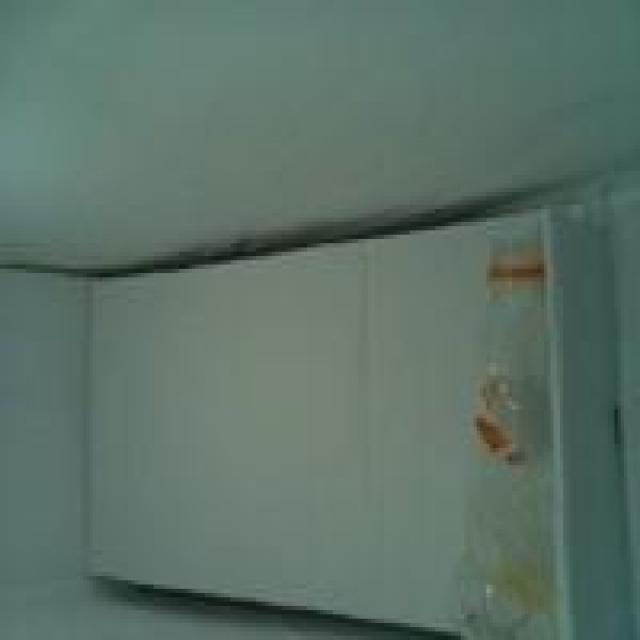bottle: (448, 227, 583, 630)
